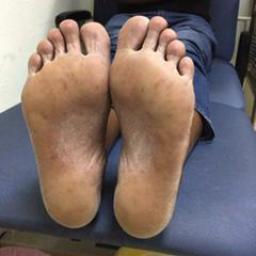Plantar View -Both Feet-: (15, 9, 200, 243)
